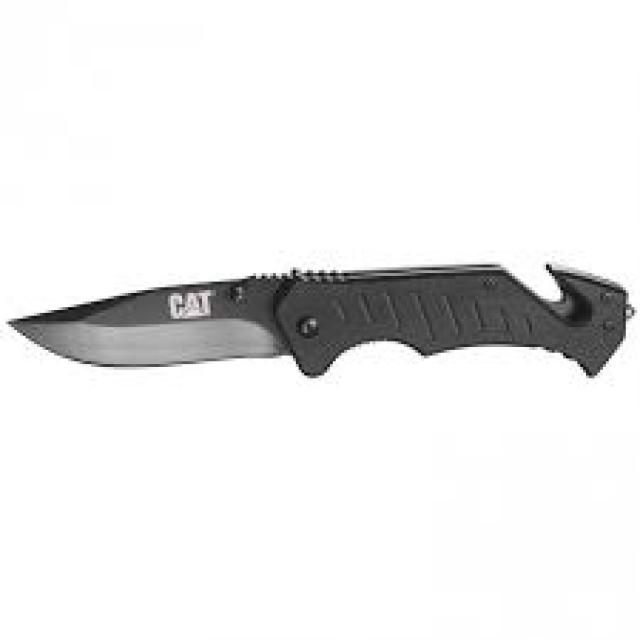knives: (3, 250, 637, 387)
